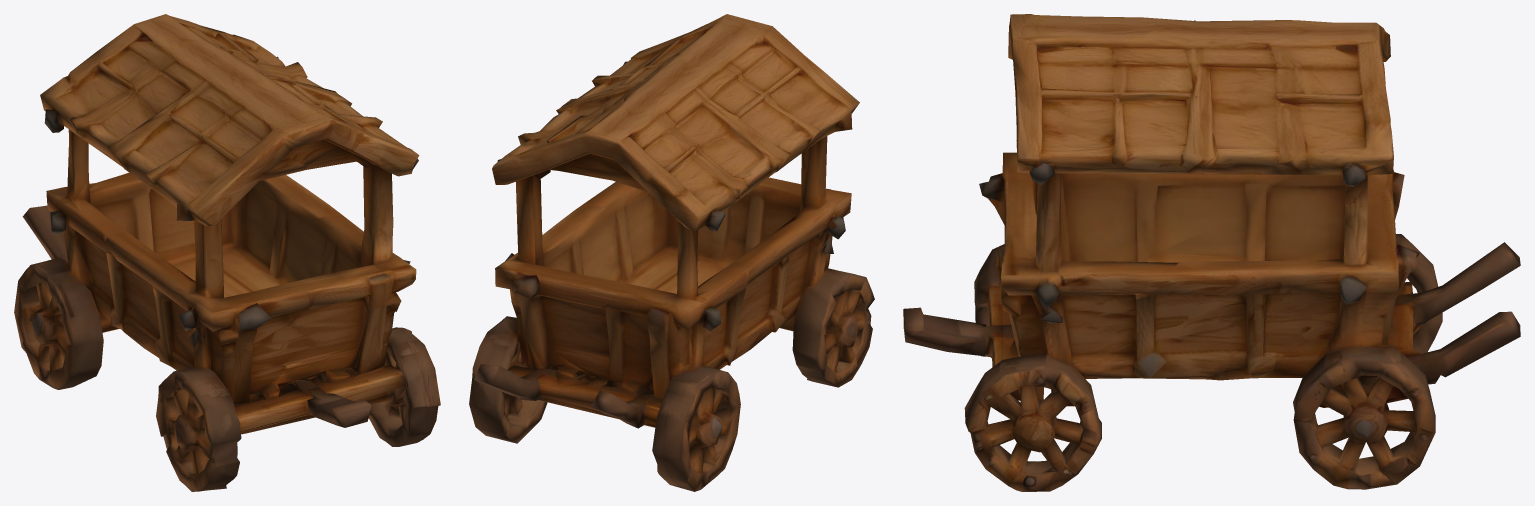
File: cart.glb
3 renders of one model, left to right at view 1: azimuth 30°, elevation 25°; view 2: azimuth 150°, elevation 25°; view 3: azimuth 270°, elevation 25°, orthographic. The views are drawn at different scales.
Parts seen in each view (by area): view 1: tripo_node_da39af33-60d5-4320-8518-973cb6dc35dc; view 2: tripo_node_da39af33-60d5-4320-8518-973cb6dc35dc; view 3: tripo_node_da39af33-60d5-4320-8518-973cb6dc35dc.
Part boxes in pixels (x1=…): tripo_node_da39af33-60d5-4320-8518-973cb6dc35dc: x1=14, y1=14, x2=440, y2=491; tripo_node_da39af33-60d5-4320-8518-973cb6dc35dc: x1=469, y1=14, x2=874, y2=491; tripo_node_da39af33-60d5-4320-8518-973cb6dc35dc: x1=903, y1=14, x2=1520, y2=491.
Bounding box in the file's own units: 0.5266 × 0.7228 × 1.
Materials: 1 (1 with a texture image).
